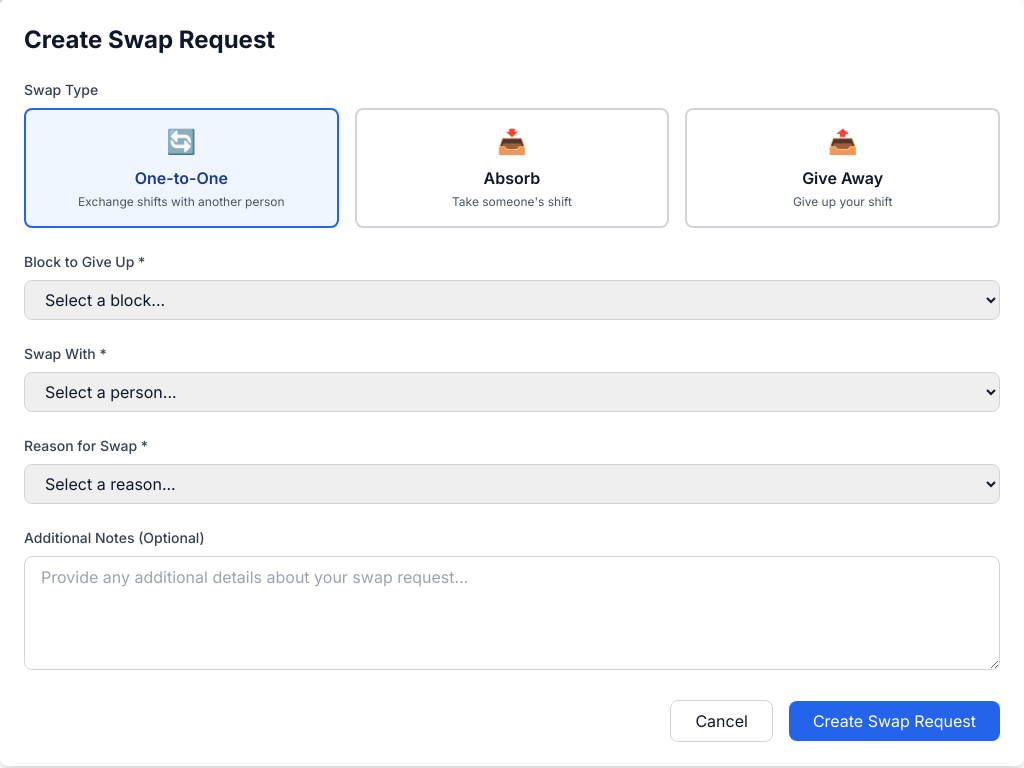
SwapRequestForm › Swap Type Selection › shows target person selection only for one-to-one swaps
This screenshot has width=1024, height=768.
Expected: the dropdown labelled "Swap With *" is shown, [24,372,1000,412]
Switch to absorb
Click the button "📥 Absorb Take someone's shift".
click(512, 168)  # box [355,108,669,228]
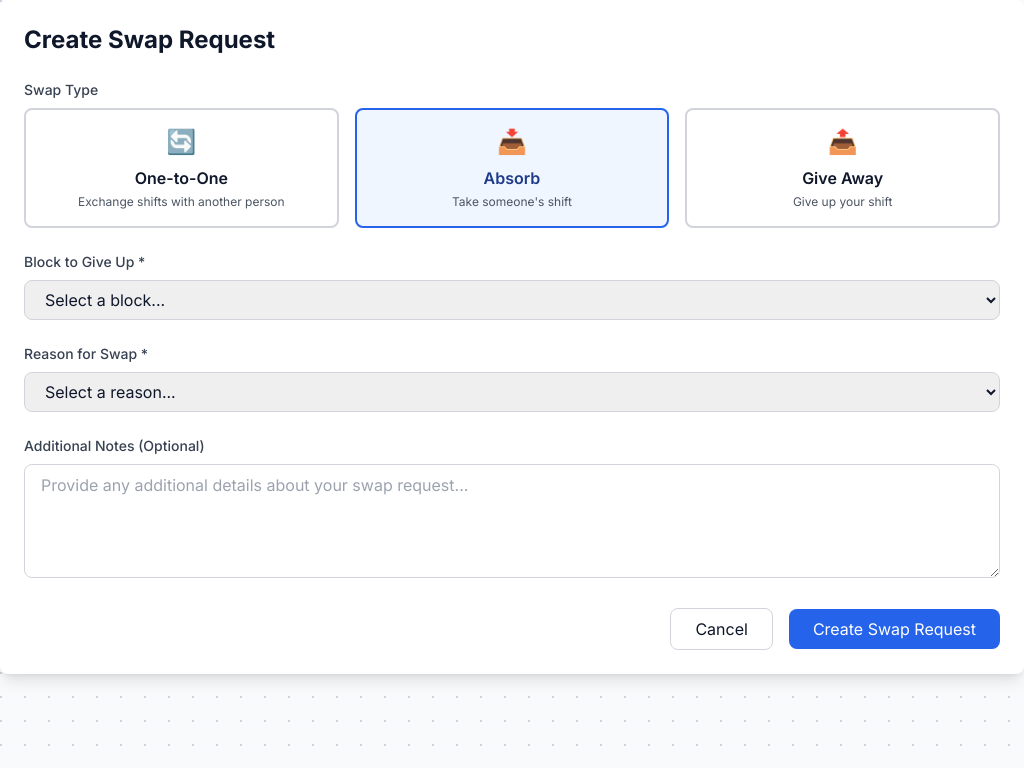
Result: the label labelled "Swap With" is gone
